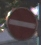No entry: (6, 6, 36, 40)
